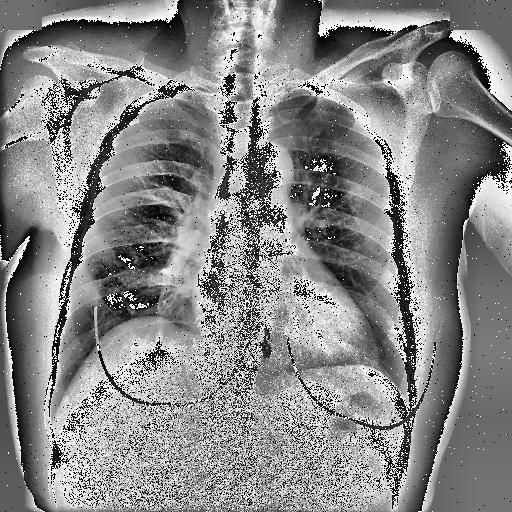0- Aortic enlargement: (250, 140, 294, 214), (248, 141, 292, 192)
3- Cardiomegaly: (190, 279, 378, 383), (195, 267, 381, 370), (191, 271, 380, 371)
